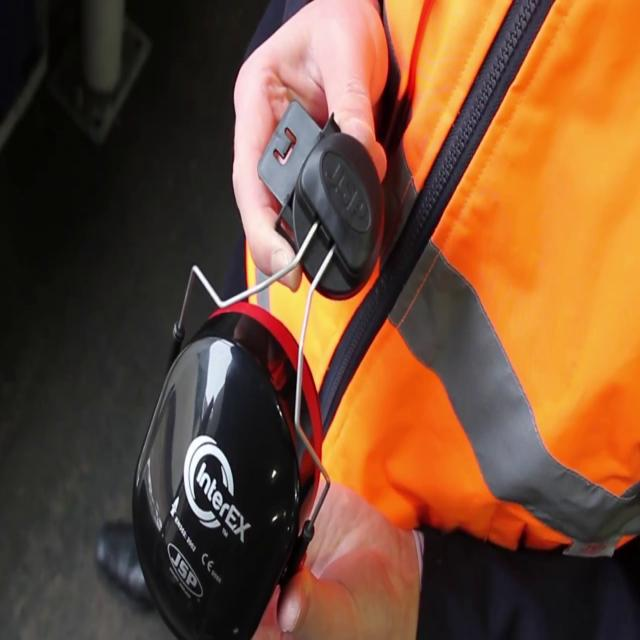earmuff: (129, 294, 327, 640)
